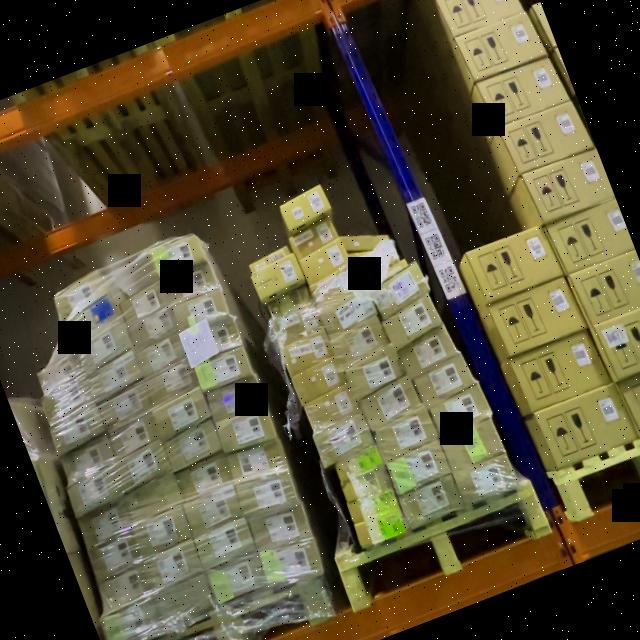box: (511, 328, 612, 414), (536, 386, 636, 470), (488, 277, 588, 358), (469, 222, 564, 304), (478, 54, 570, 128), (526, 146, 615, 222), (548, 199, 636, 275), (503, 100, 593, 174), (457, 9, 547, 82), (570, 252, 640, 328), (454, 452, 524, 509), (261, 538, 326, 594), (428, 383, 494, 438), (236, 468, 302, 523), (400, 476, 466, 530), (180, 312, 246, 366), (374, 408, 440, 462), (249, 502, 315, 556), (441, 418, 507, 472), (412, 352, 477, 406), (195, 517, 259, 571), (72, 318, 136, 372), (388, 440, 453, 493), (360, 377, 425, 430), (596, 303, 640, 381), (313, 414, 376, 468), (346, 346, 410, 398), (366, 262, 430, 314), (154, 578, 217, 630), (143, 542, 206, 594), (132, 506, 195, 558), (436, 0, 522, 38), (209, 554, 271, 606), (316, 286, 378, 338), (382, 296, 444, 348), (185, 485, 248, 536), (328, 316, 391, 366), (396, 327, 459, 377), (164, 421, 225, 472), (217, 406, 279, 456), (54, 274, 116, 324), (152, 388, 213, 438), (192, 346, 254, 395), (228, 438, 290, 487), (84, 352, 145, 401), (206, 376, 268, 424), (176, 455, 236, 503), (124, 475, 184, 523), (48, 406, 108, 454), (66, 468, 124, 516), (117, 442, 174, 490), (149, 231, 207, 278), (161, 260, 220, 306), (171, 286, 231, 331), (58, 438, 118, 483), (89, 531, 144, 580), (302, 386, 359, 432), (103, 600, 168, 640), (290, 358, 346, 404), (98, 383, 154, 429), (79, 502, 134, 548), (279, 330, 334, 375), (144, 360, 200, 404), (279, 186, 332, 231), (100, 565, 153, 610), (354, 243, 410, 285), (251, 256, 304, 300), (40, 379, 94, 422), (108, 416, 162, 458), (308, 265, 362, 306), (136, 334, 188, 376), (299, 240, 351, 282), (118, 283, 170, 325), (270, 308, 324, 348), (261, 284, 314, 324), (354, 512, 408, 550), (331, 446, 384, 484), (290, 218, 340, 258), (129, 308, 179, 348), (341, 466, 393, 504), (348, 488, 400, 526), (35, 352, 82, 392), (343, 222, 394, 258), (622, 362, 640, 434), (249, 246, 292, 272)
